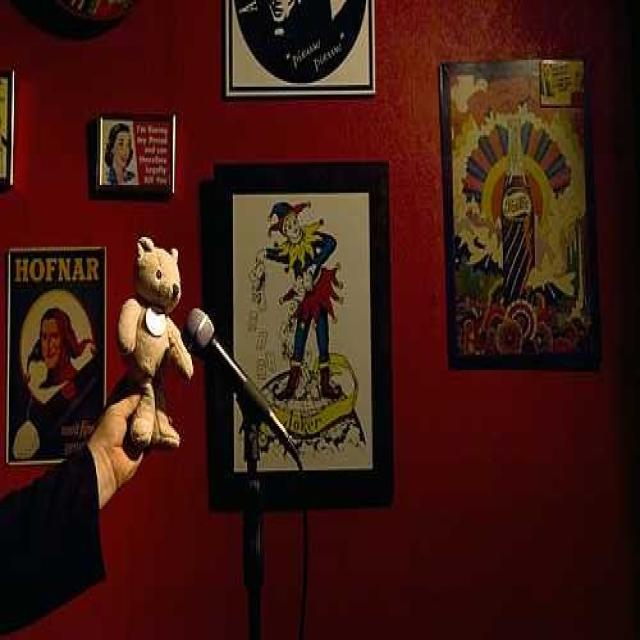microphone: (183, 306, 299, 462)
